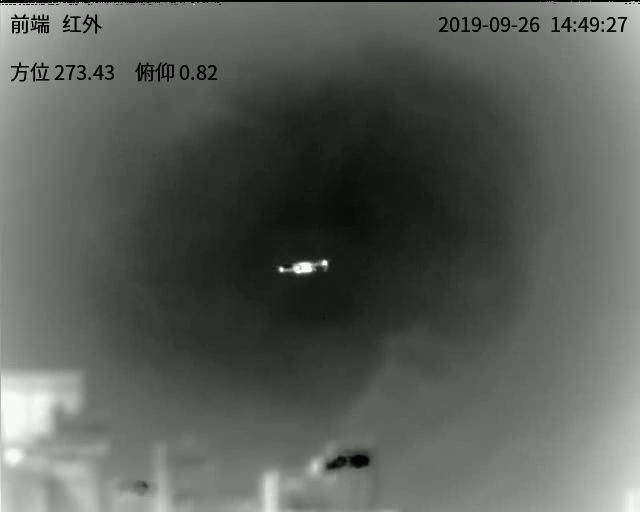DRONE: (276, 258, 330, 276)
